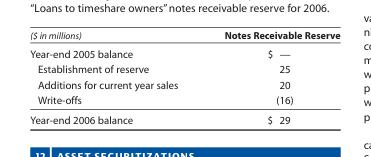table: (29, 29, 339, 126)
table column: (29, 29, 200, 126), (200, 29, 339, 126)
table column header: (29, 29, 339, 44)
table row: (29, 44, 339, 61), (29, 92, 339, 109), (29, 109, 339, 126), (29, 76, 339, 92), (29, 29, 339, 44), (29, 61, 339, 76)
